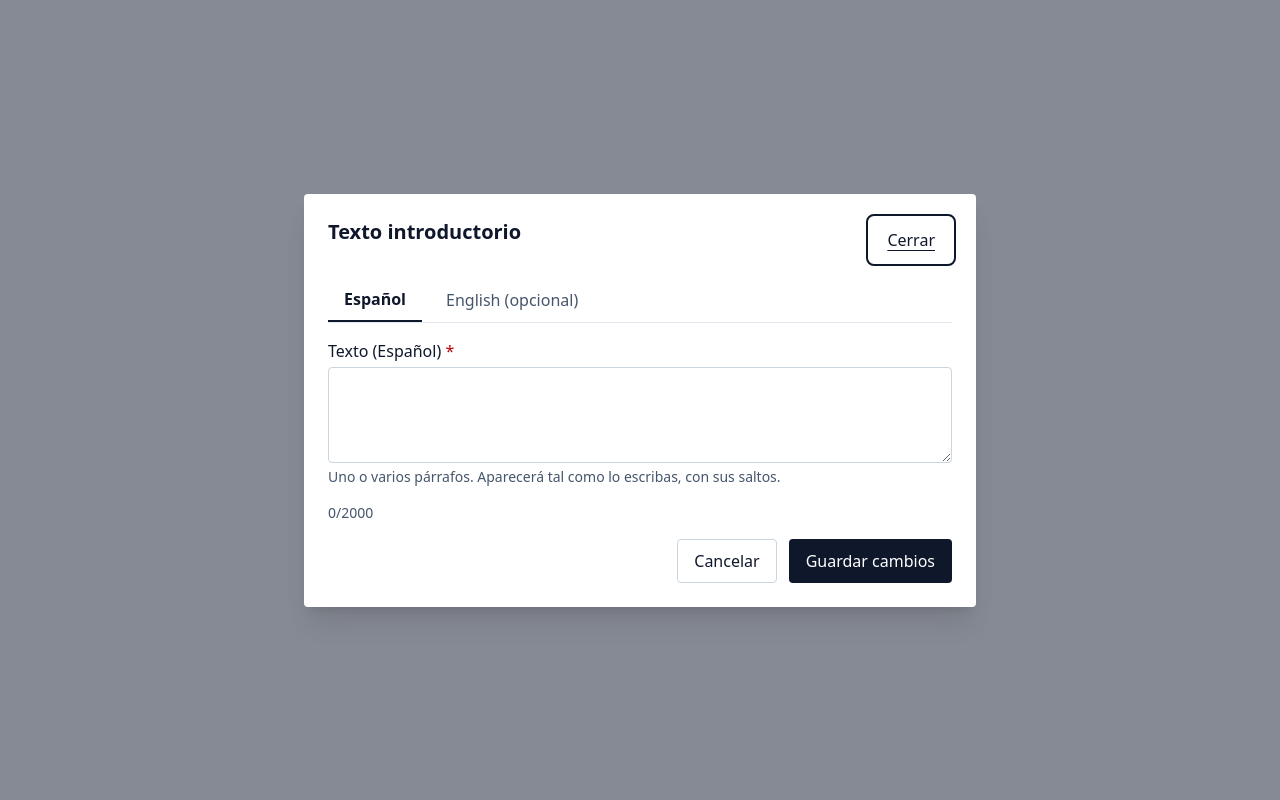
TextoForm · validación (FR-014/Decisión 8) › el inglés sin español bloquea indicando qué falta
Click the button "English (opcional)" at (512, 300), box x1=430 y1=278 x2=594 y2=322
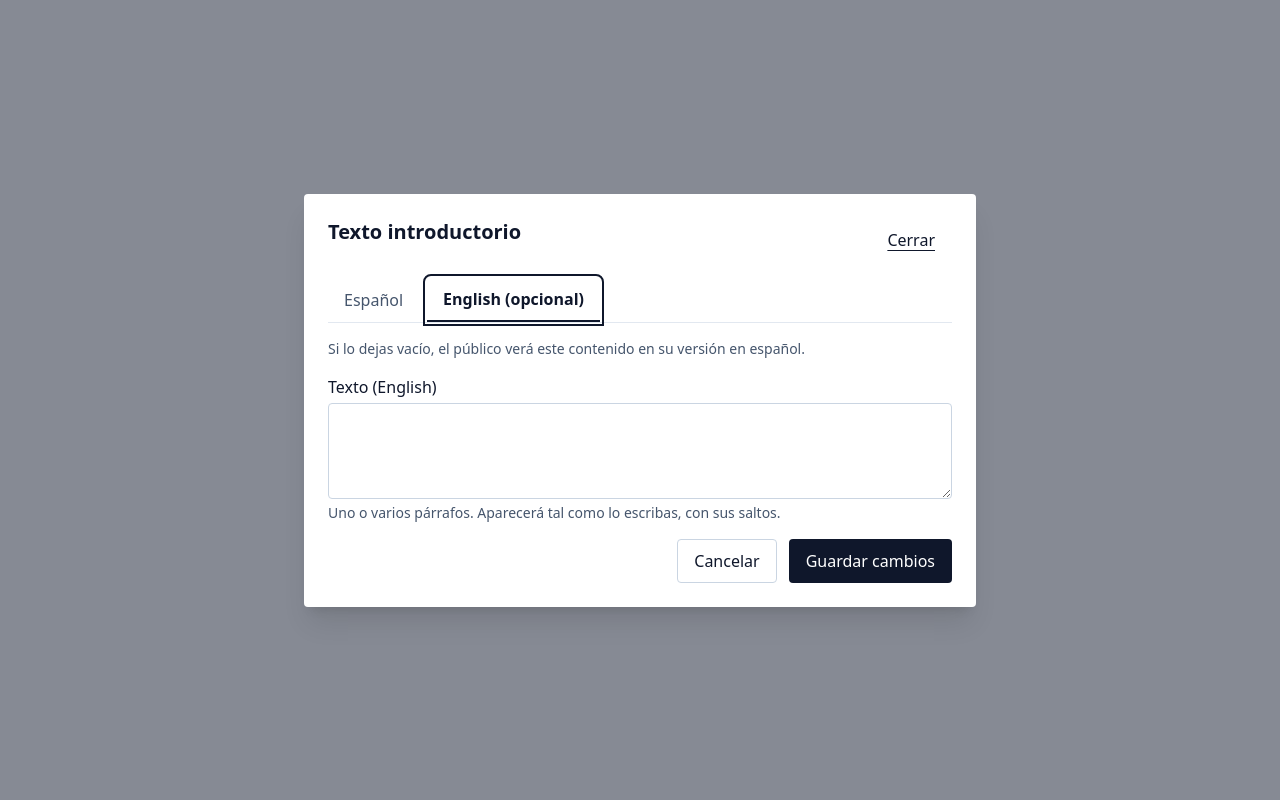
Type "Your gift matters." into the text box labelled "Texto (English)" at (640, 450), box x1=328 y1=402 x2=952 y2=498
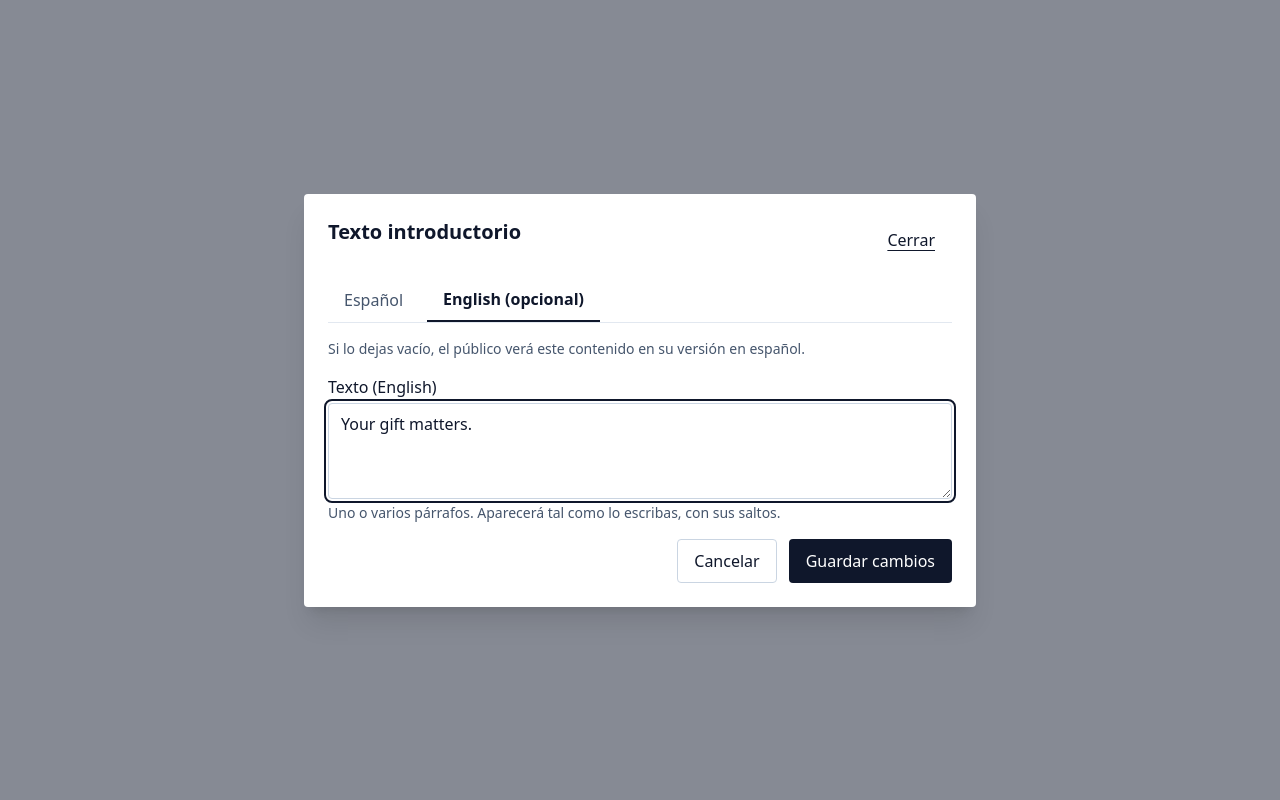
Click the button "Guardar cambios" at (870, 560), box x1=789 y1=538 x2=952 y2=582
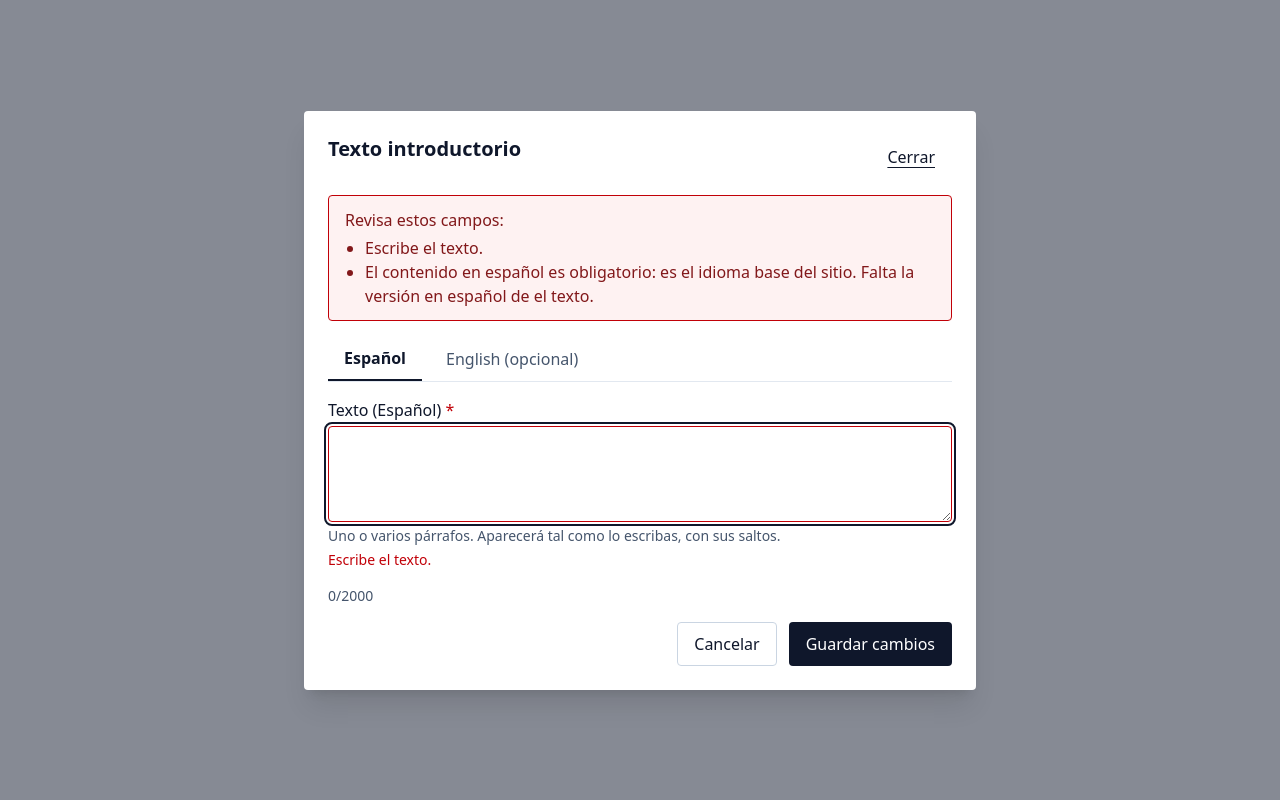
Expected: the list item "Falta la versión en español" is shown, x1=365 y1=260 x2=914 y2=306
